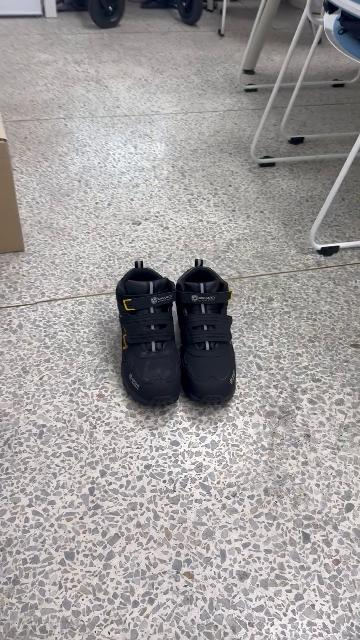shoe_worn: (115, 258, 182, 406), (174, 258, 239, 403)
